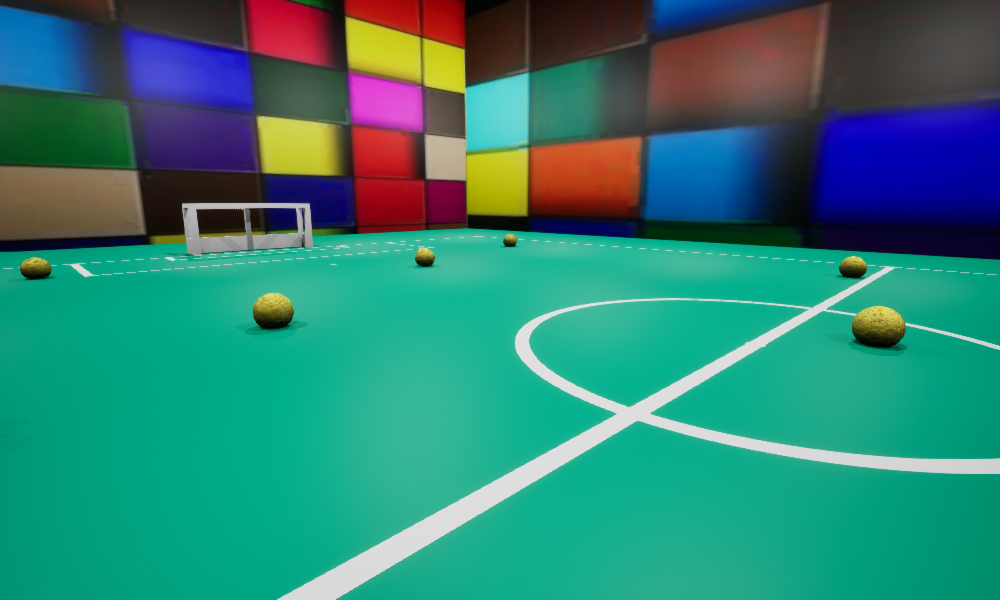b: (852, 306, 905, 346), (253, 293, 293, 328), (20, 257, 51, 278), (839, 256, 866, 277), (415, 248, 434, 265), (503, 234, 516, 246)
g: (182, 203, 312, 254)
